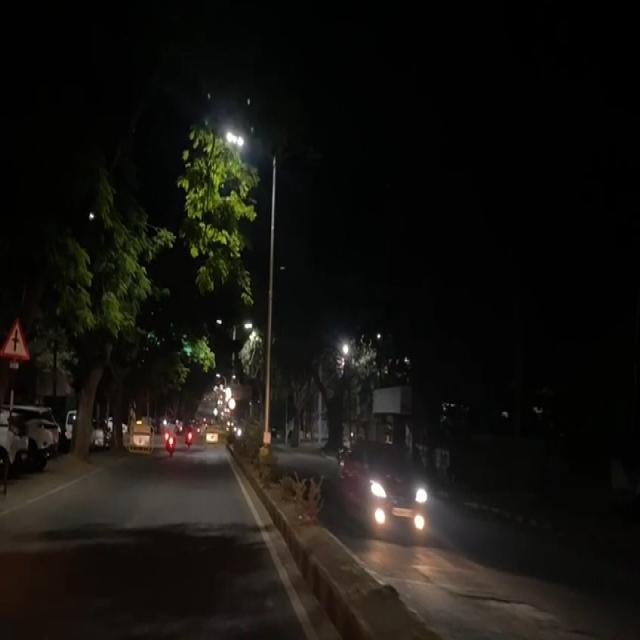bien_cam: (1, 307, 30, 368)
